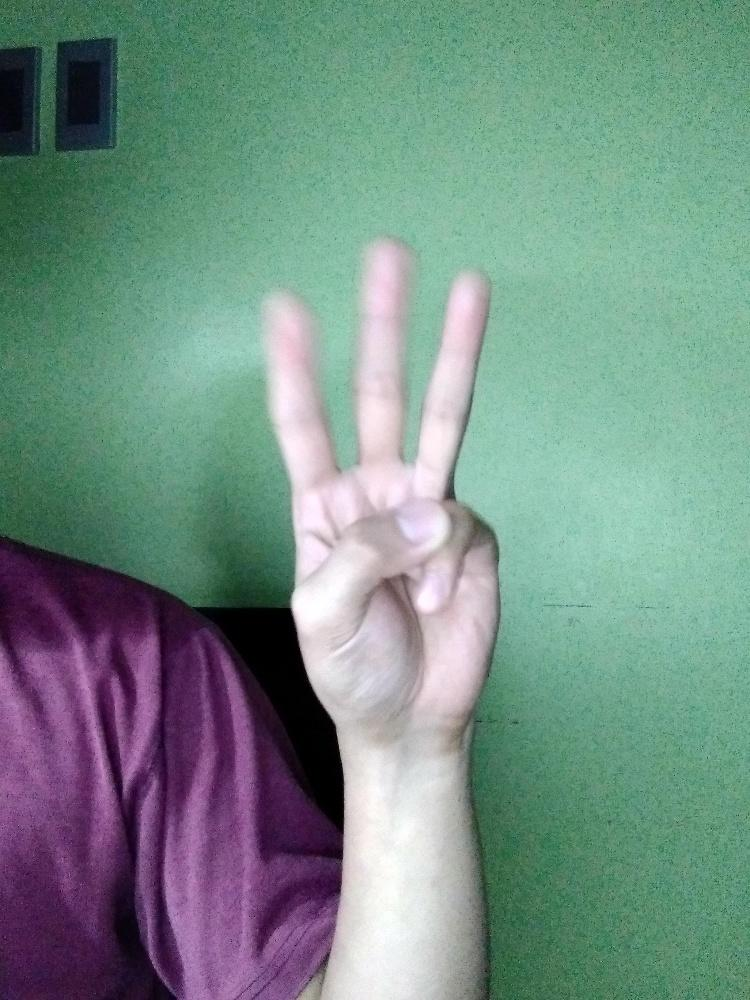w: (255, 230, 507, 749)
